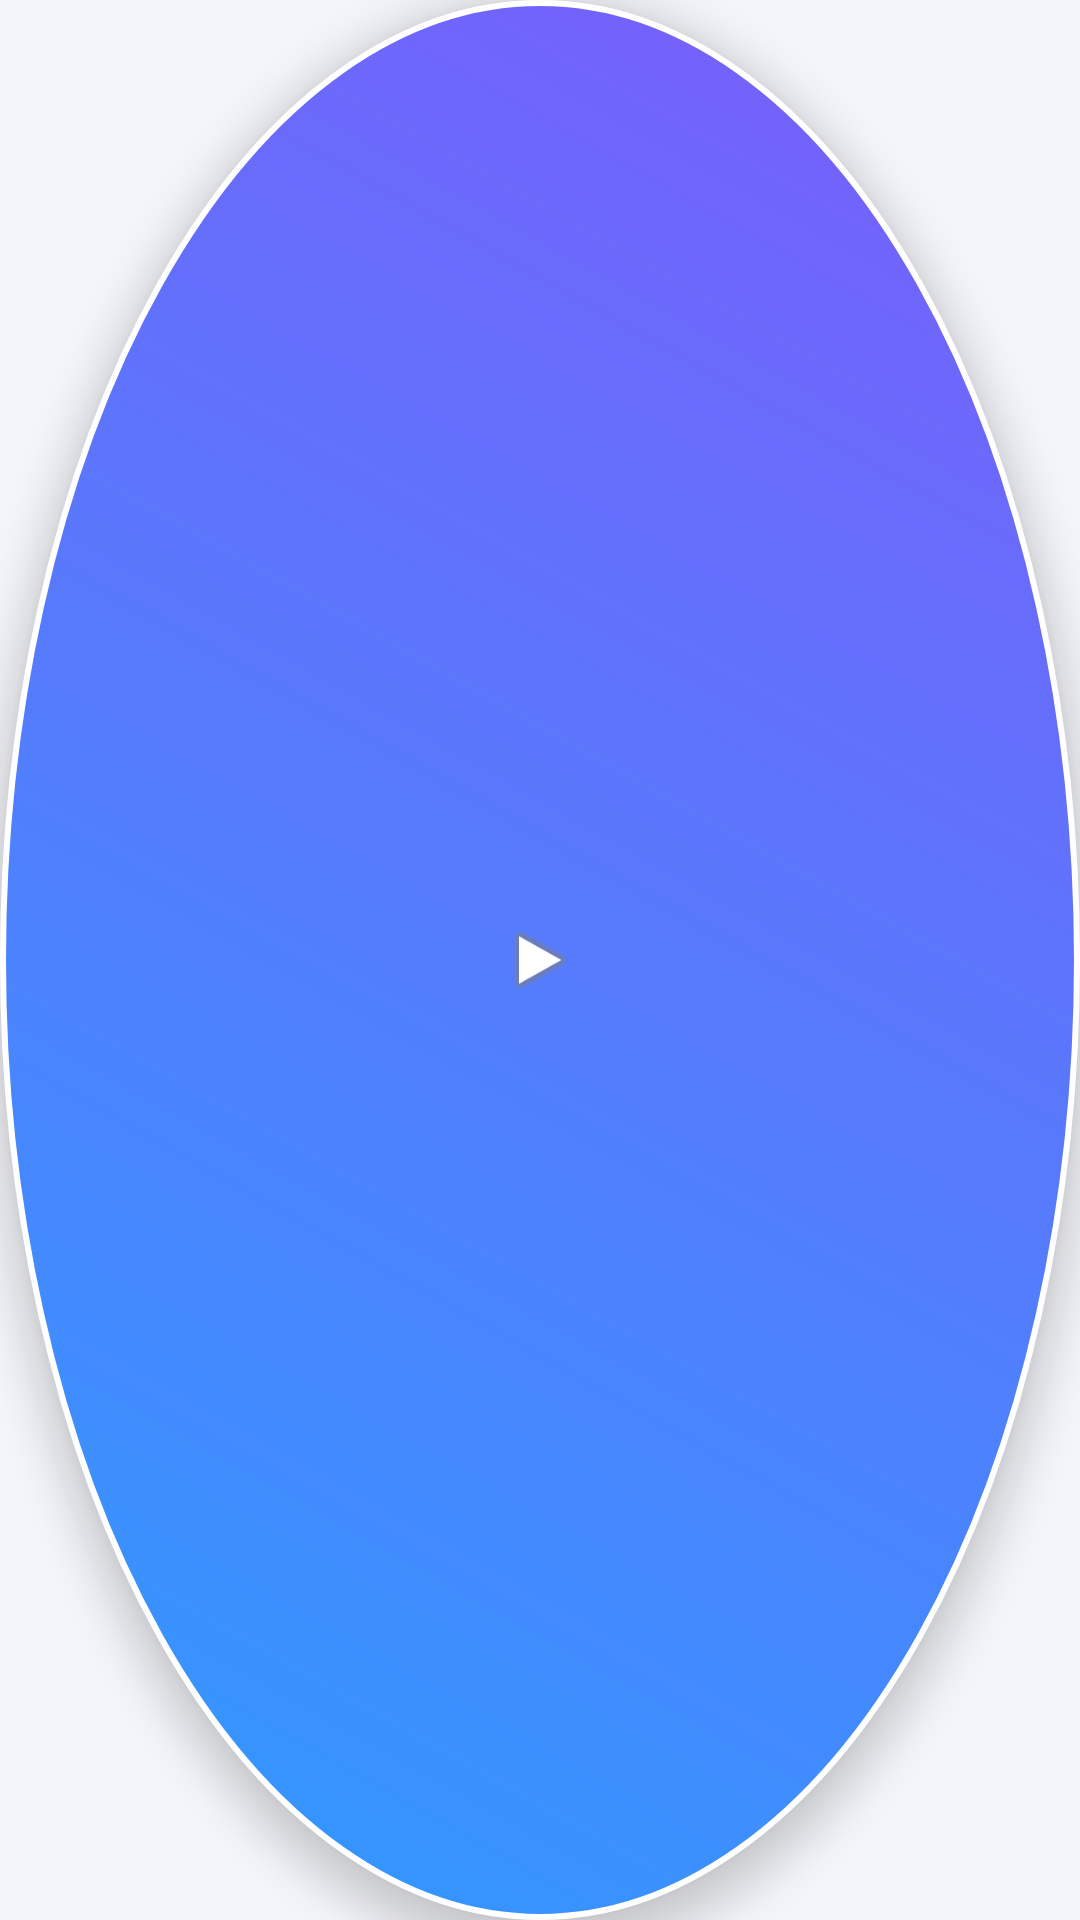

Locate icon controls on the screen. Image size 1080 × 1920, boxes as box(x1, y1, x2, y2).
play: box(515, 932, 565, 988)
